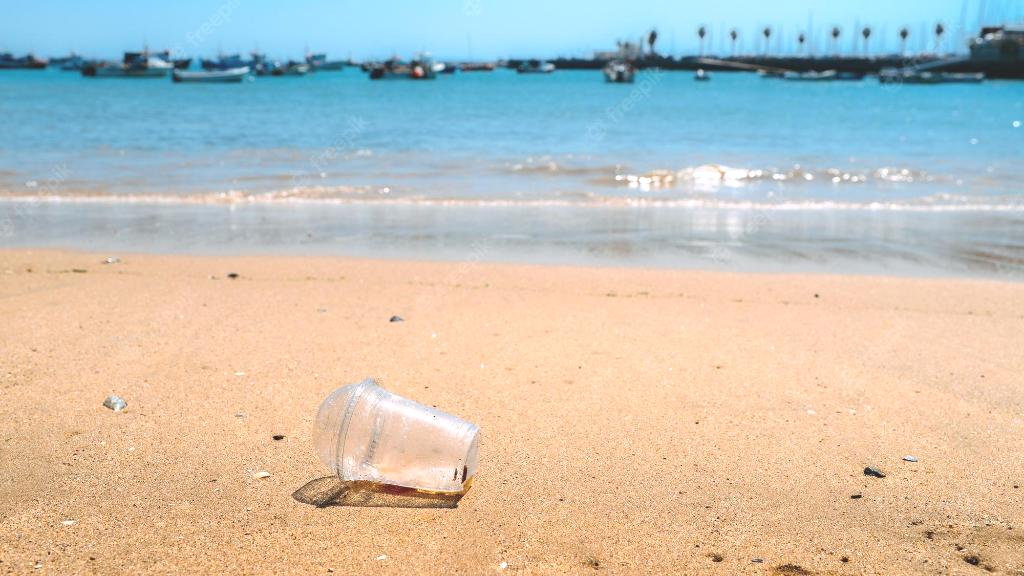garbage: (313, 372, 495, 525)
